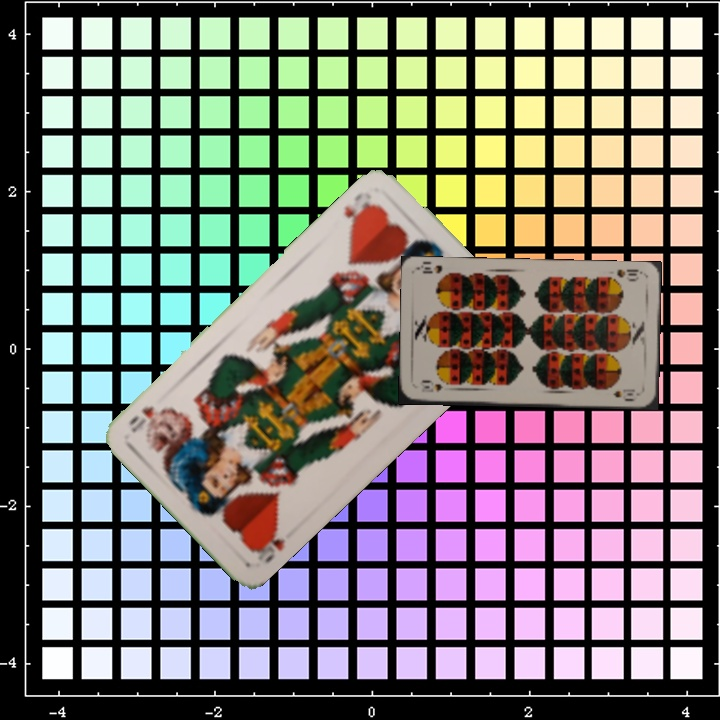HO: (339, 187, 381, 235), (248, 523, 288, 567)
S10: (613, 265, 645, 284), (418, 380, 445, 395)
